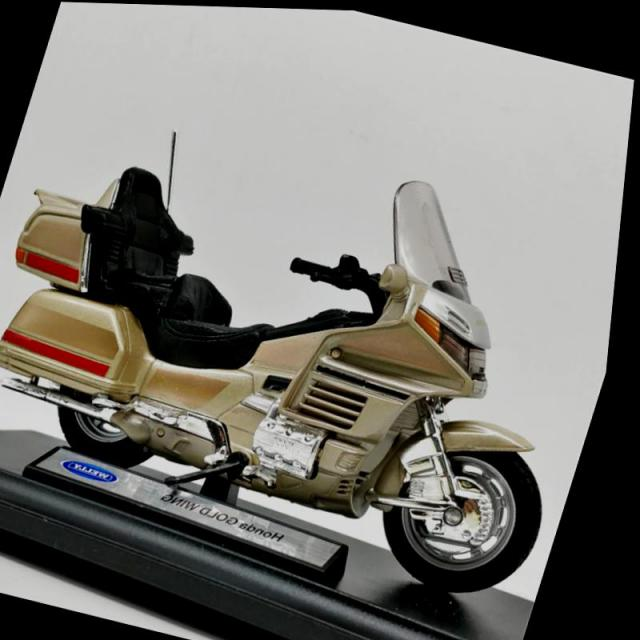Gold Wing: (0, 83, 633, 606)
